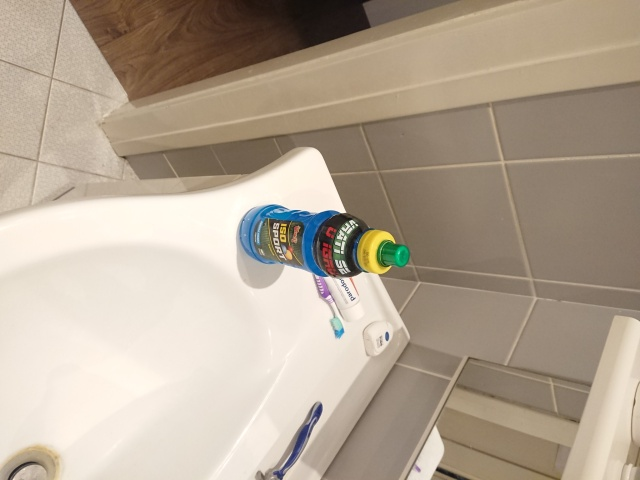Vindi Iso Sport Forest Strawberries 500mL: (238, 203, 411, 280)
